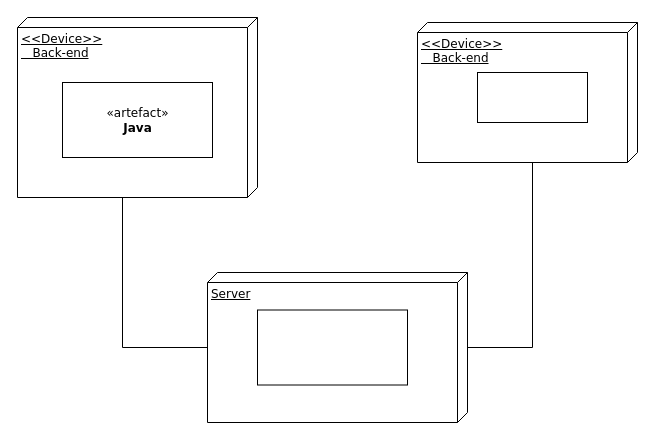
Some shapes in this 655 by 440 pixel diagram are drawn without their labels. Each missing label, with the box of its shape:
«artefact» GraphQL: (256, 309, 408, 385)
«artefact» Python: (476, 72, 588, 122)
